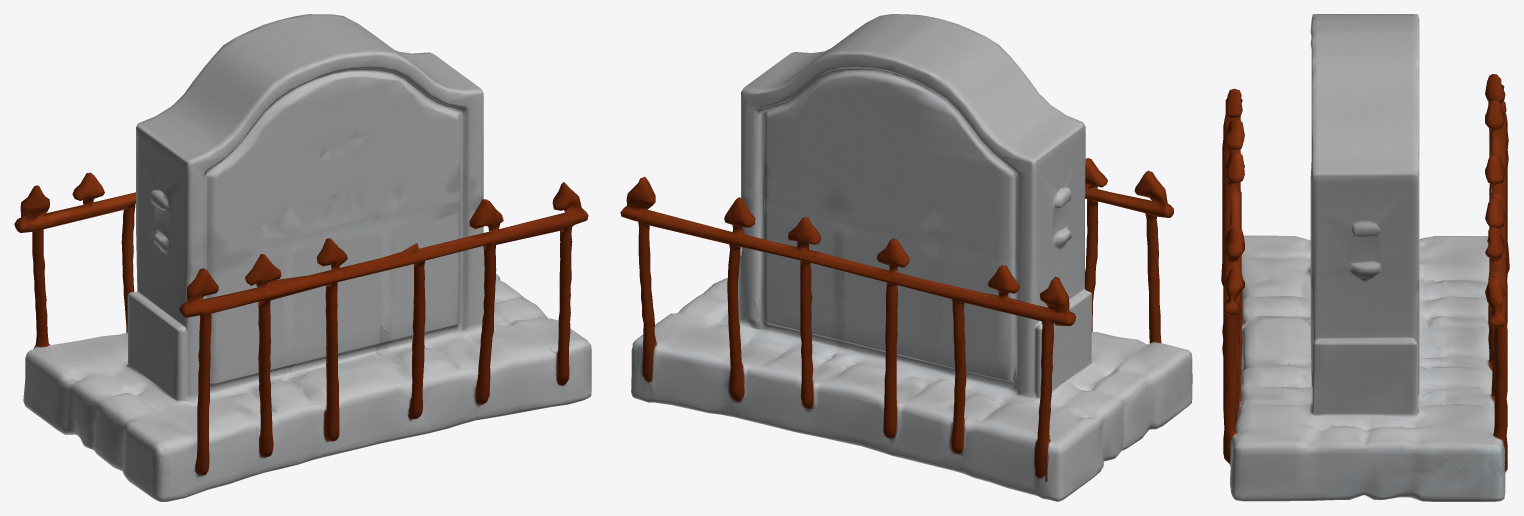
Rendered from grave_iron_fence_plot.glb.
3 views of the same model, side by side, from view 1: azimuth 30°, elevation 25°; view 2: azimuth 150°, elevation 25°; view 3: azimuth 270°, elevation 25° (orthographic).
Size of the model in its own units: 1.91 by 1.47 by 1.05.
1 material, 1 textured.
